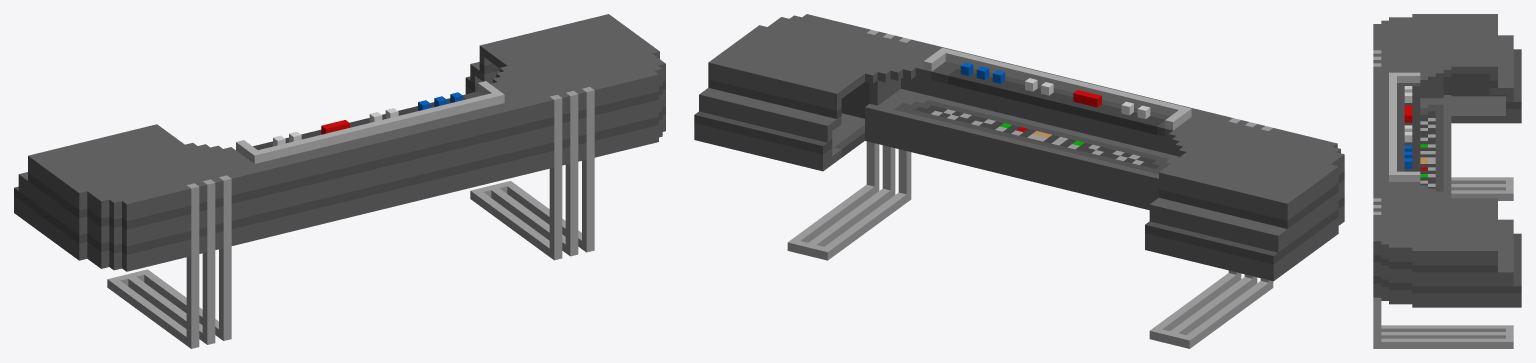
The model's file is Command Consul.obj.
3 views of the same model, side by side, from view 1: azimuth 30°, elevation 25°; view 2: azimuth 150°, elevation 25°; view 3: azimuth 270°, elevation 25° (orthographic). The views are drawn at different scales.
Bounding box in the file's own units: 72 × 20 × 19.
1 material, 1 textured.
